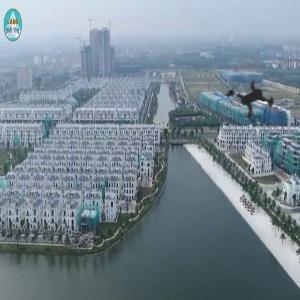drone: (204, 55, 298, 149)
